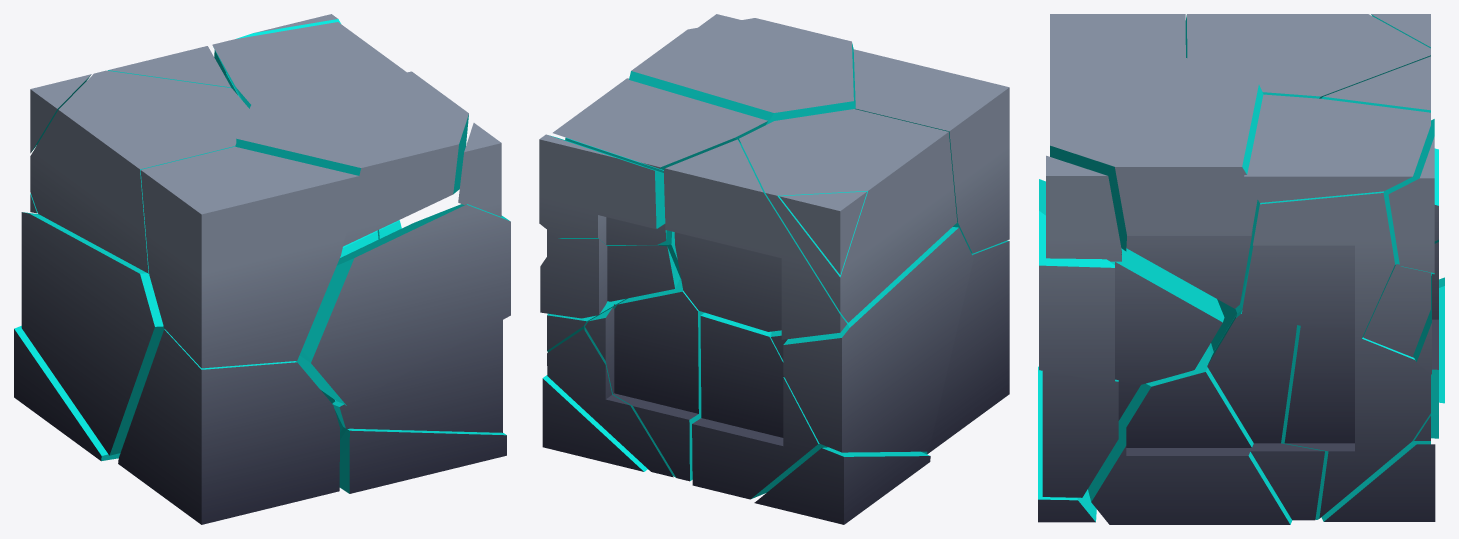
File: Damaged_02.fbx
The picture shows the model from 3 angles, left to right: view 1: azimuth 30°, elevation 25°; view 2: azimuth 150°, elevation 25°; view 3: azimuth 270°, elevation 25°; orthographic projection. The views are drawn at different scales.
Visible parts, largest first — view 1: Cube_intacte_cell.001, Cube_intacte_cell, Cube_intacte_cell.023, Cube_intacte_cell.018, Cube_intacte_cell.007, Cube_intacte_cell.002, Cube_intacte_cell.006, Cube_intacte_cell.012, Cube_intacte_cell.014, Cube_intacte_cell.009, Cube_intacte_cell.015, Cube_intacte_cell.003 (+2 smaller); view 2: Cube_intacte_cell.018, Cube_intacte_cell.002, Cube_intacte_cell.003, Cube_intacte_cell.007, Cube_intacte_cell.017, Cube_intacte_cell.001, Cube_intacte_cell.016, Cube_intacte_cell.020, Cube_intacte_cell.012, Cube_intacte_cell, Cube_intacte_cell.004, Cube_intacte_cell.009 (+5 smaller); view 3: Cube_intacte_cell.007, Cube_intacte_cell.022, Cube_intacte_cell.023, Cube_intacte_cell.021, Cube_intacte_cell.019, Cube_intacte_cell.012, Cube_intacte_cell.018, Cube_intacte_cell.008, Cube_intacte_cell.006, Cube_intacte_cell.001, Cube_intacte_cell.015, Cube_intacte_cell.013 (+9 smaller).
Part boxes in pixels (<box>): Cube_intacte_cell.001: <box>140,146,359,368</box>; Cube_intacte_cell: <box>118,329,339,524</box>; Cube_intacte_cell.023: <box>296,204,510,405</box>; Cube_intacte_cell.018: <box>30,70,249,273</box>; Cube_intacte_cell.007: <box>236,71,468,246</box>; Cube_intacte_cell.002: <box>21,212,164,455</box>; Cube_intacte_cell.006: <box>332,320,502,432</box>; Cube_intacte_cell.012: <box>212,22,406,108</box>; Cube_intacte_cell.014: <box>339,428,506,493</box>; Cube_intacte_cell.009: <box>14,326,120,461</box>; Cube_intacte_cell.015: <box>458,123,501,216</box>; Cube_intacte_cell.003: <box>30,46,231,213</box>; Cube_intacte_cell.018: <box>739,109,957,322</box>; Cube_intacte_cell.002: <box>770,227,973,452</box>; Cube_intacte_cell.003: <box>663,139,846,339</box>; Cube_intacte_cell.007: <box>629,18,855,124</box>; Cube_intacte_cell.017: <box>692,312,827,499</box>; Cube_intacte_cell.001: <box>853,49,1009,253</box>; Cube_intacte_cell.016: <box>585,278,704,481</box>; Cube_intacte_cell.020: <box>539,134,666,245</box>; Cube_intacte_cell.012: <box>553,78,767,169</box>; Cube_intacte_cell: <box>921,240,1009,454</box>; Cube_intacte_cell.004: <box>540,238,680,318</box>; Cube_intacte_cell.009: <box>754,447,930,524</box>; Cube_intacte_cell.007: <box>1050,58,1263,308</box>; Cube_intacte_cell.022: <box>1088,343,1292,524</box>; Cube_intacte_cell.023: <box>1039,179,1224,384</box>; Cube_intacte_cell.021: <box>1211,263,1430,519</box>; Cube_intacte_cell.019: <box>1242,188,1399,338</box>; Cube_intacte_cell.012: <box>1244,94,1430,202</box>; Cube_intacte_cell.018: <box>1185,14,1430,98</box>; Cube_intacte_cell.008: <box>1207,310,1324,520</box>; Cube_intacte_cell.006: <box>1042,371,1140,497</box>; Cube_intacte_cell.001: <box>1050,14,1185,92</box>; Cube_intacte_cell.015: <box>1046,155,1121,261</box>; Cube_intacte_cell.013: <box>1321,444,1435,521</box>.
Bounding box in the file's own units: 106 × 102 × 107.
